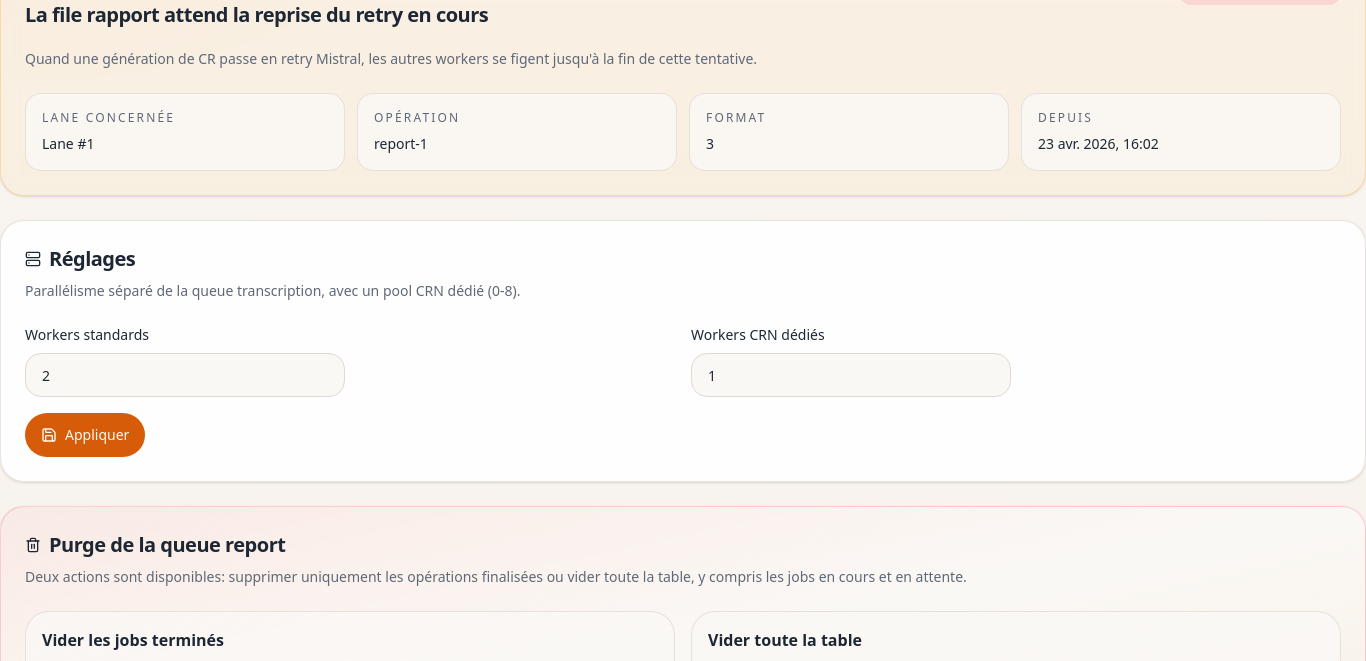
it: ReportQueuePage › updates standard and CRN lane parallelism together
This screenshot has width=1366, height=661.
(page scrolled)
Expected: the heading "Réglages" is shown, [25, 245, 135, 272]
Replace the text in the number field labelled "Workers standards" with "3": (185, 375) [25, 353, 345, 397]
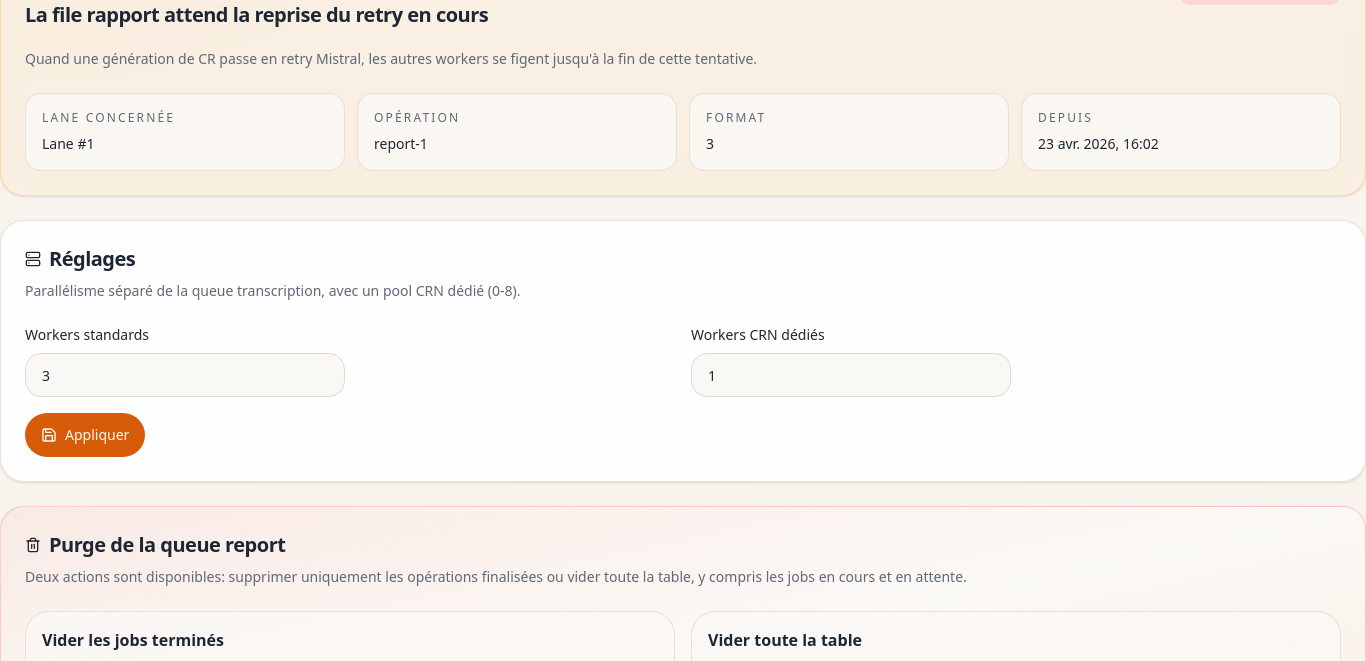
Replace the text in the number field labelled "Workers CRN dédiés" with "2": (851, 375) [691, 353, 1011, 397]
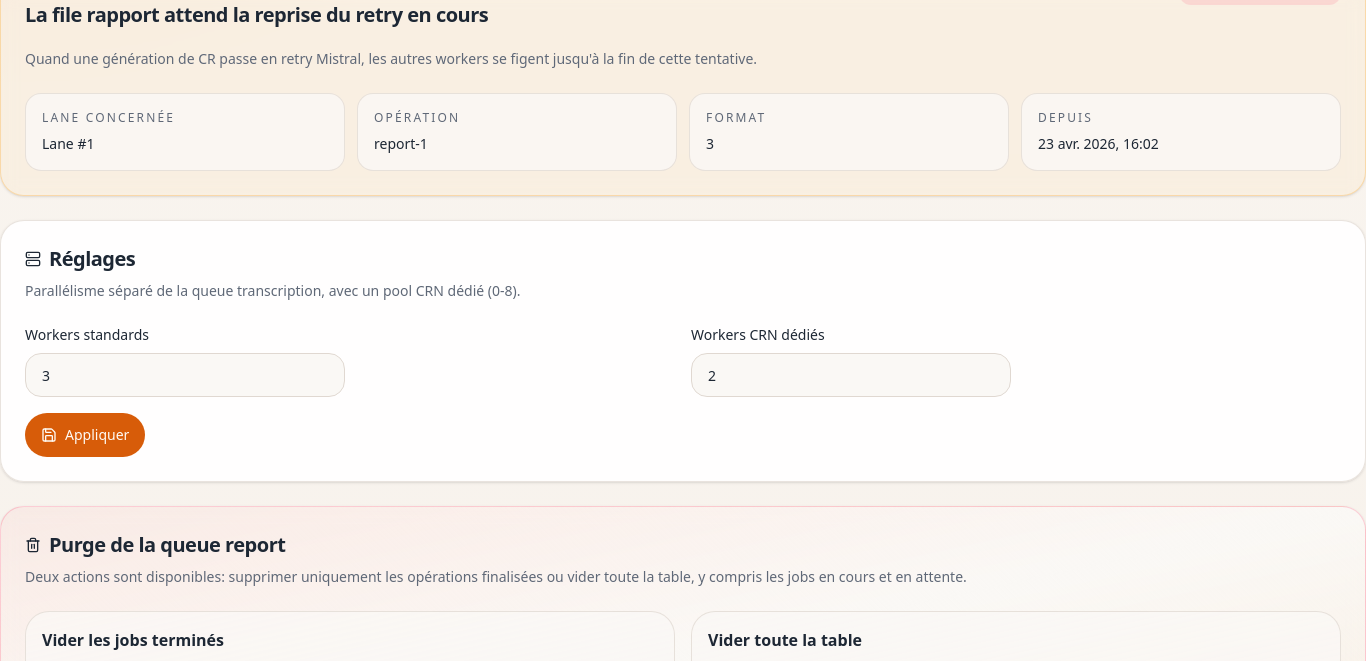
Click the button "Appliquer": (85, 435) [25, 413, 145, 457]
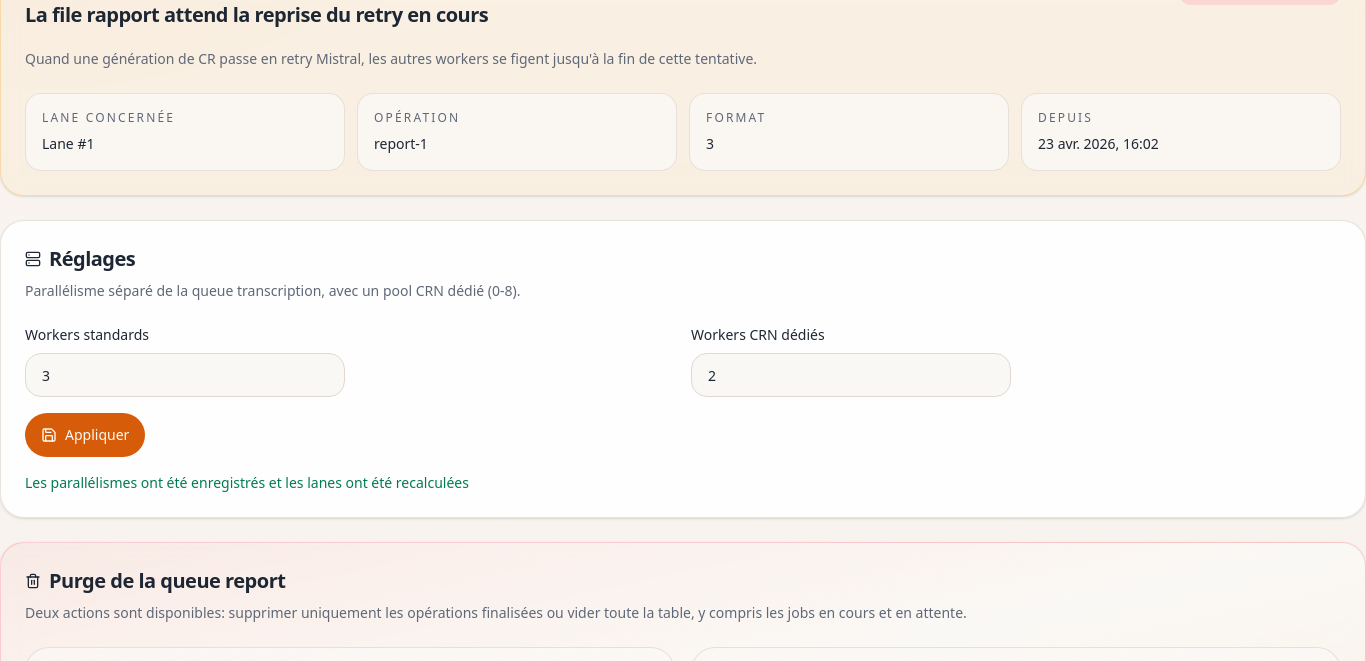
Now the text "Les parallélismes ont été enregistrés et les lanes ont été recalculées" is shown, box [25, 473, 469, 492]
